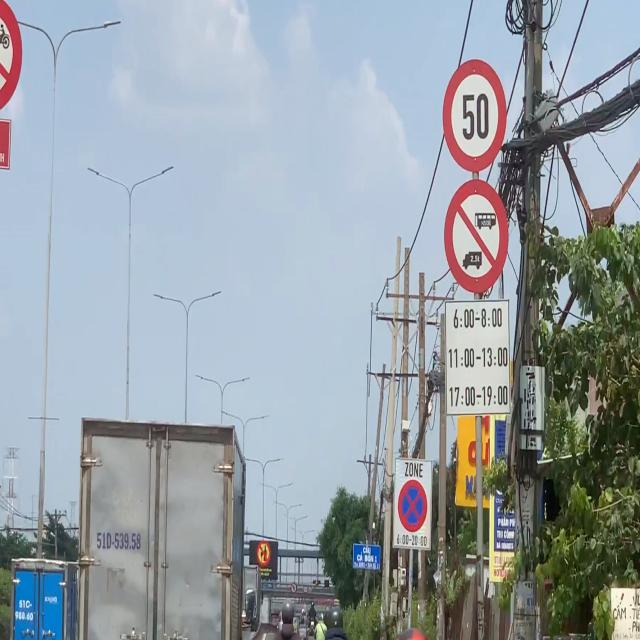Cam con lai: (444, 178, 508, 293)
Cam dung va do: (398, 479, 427, 532)
Toc do toi da: (442, 59, 507, 172)
